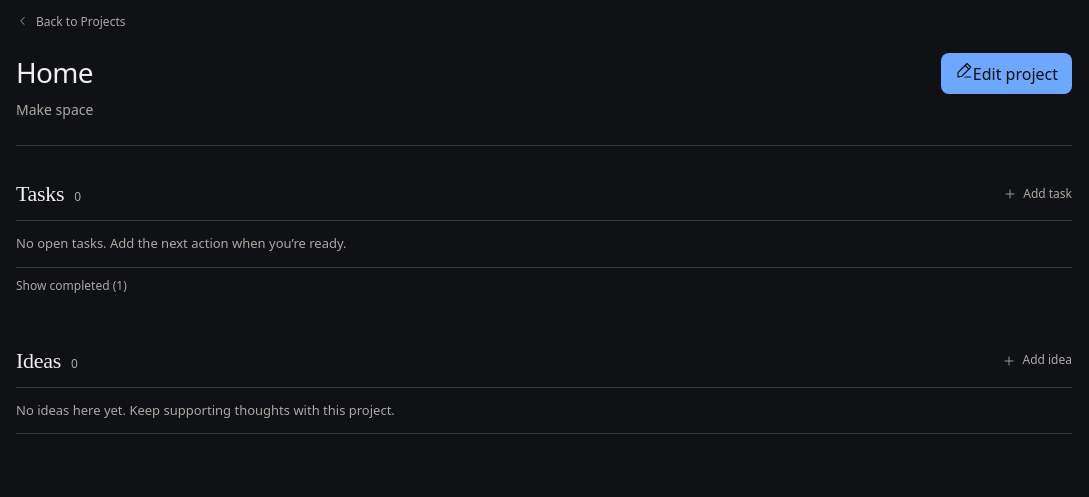
Collection pages › shows the description, omits project status, and reveals completed tasks on demand
Expected: the text "Make space" is shown, [16,100,93,119]
Expected: the button "Finished action" is not shown
What coordinates should you click on to do the following:
click the button "Show completed (1)"
I would click on:
 (71, 286)
Its box is [16,268,127,305].
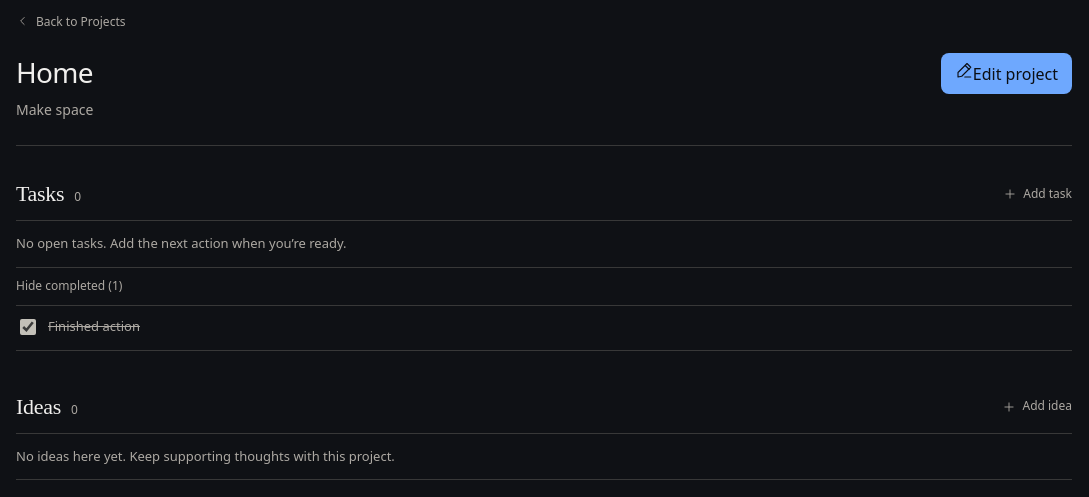
Result: the button "Finished action" is shown at [48,314,1000,338]
Result: the button "Hide completed (1)" is expanded
What coordinates should you click on to do the following:
click the button "Hide completed (1)"
I would click on:
 (69, 286)
Its box is [16,268,122,305].
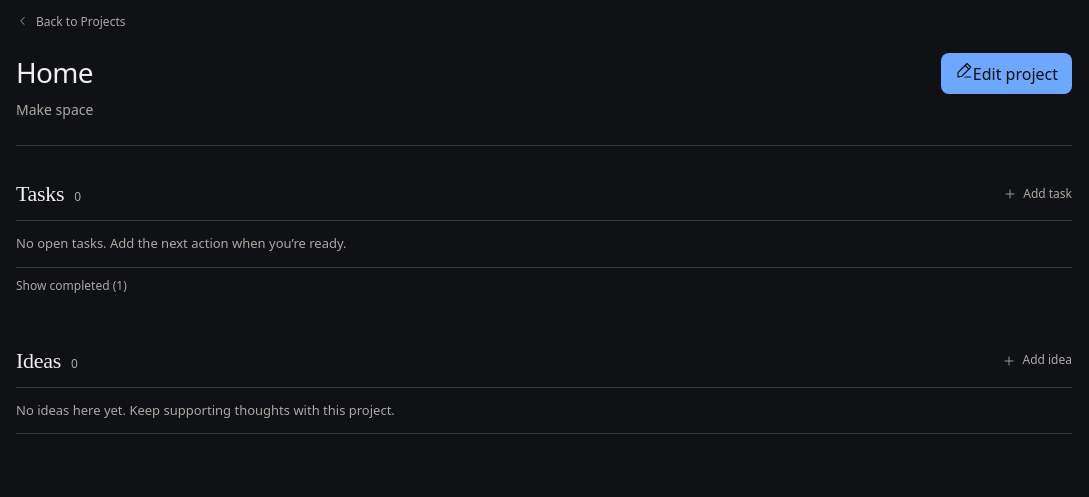
Result: the button "Finished action" is gone
